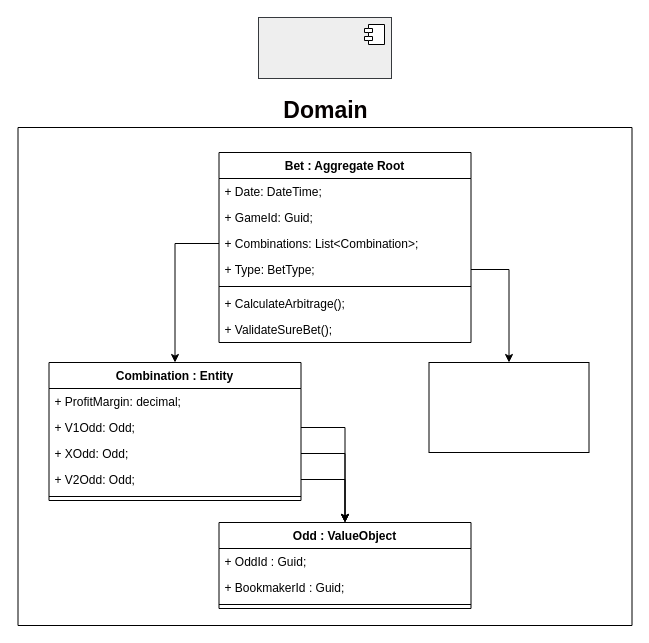
Image size: 649x643. Some labels were removed from this diagram. Each missing label, with the centre of its shape:
Arbitrage Finder: (325,47)
BetType : Enum 2WayBet = 1 3WayBet = 2: (508,407)
